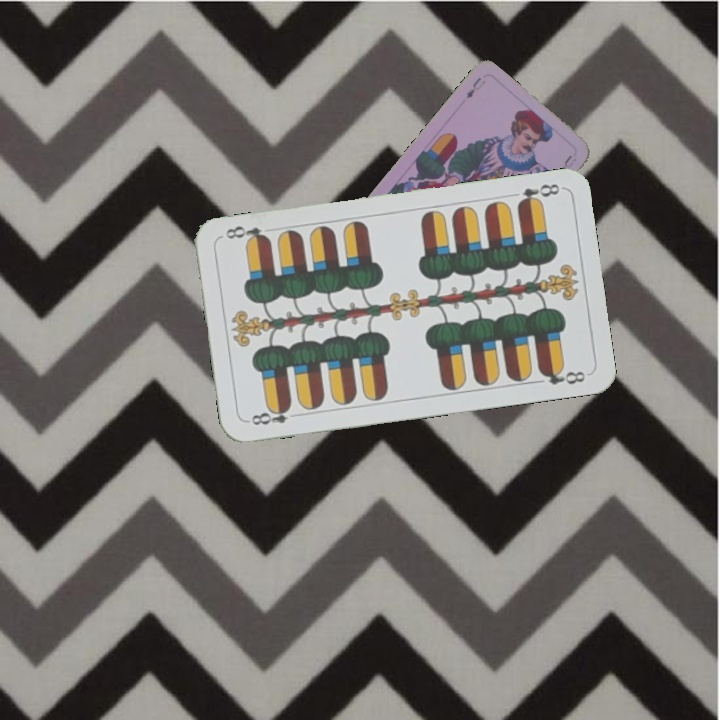E8: (513, 179, 563, 209), (244, 401, 294, 428)
EU: (462, 73, 488, 101)
